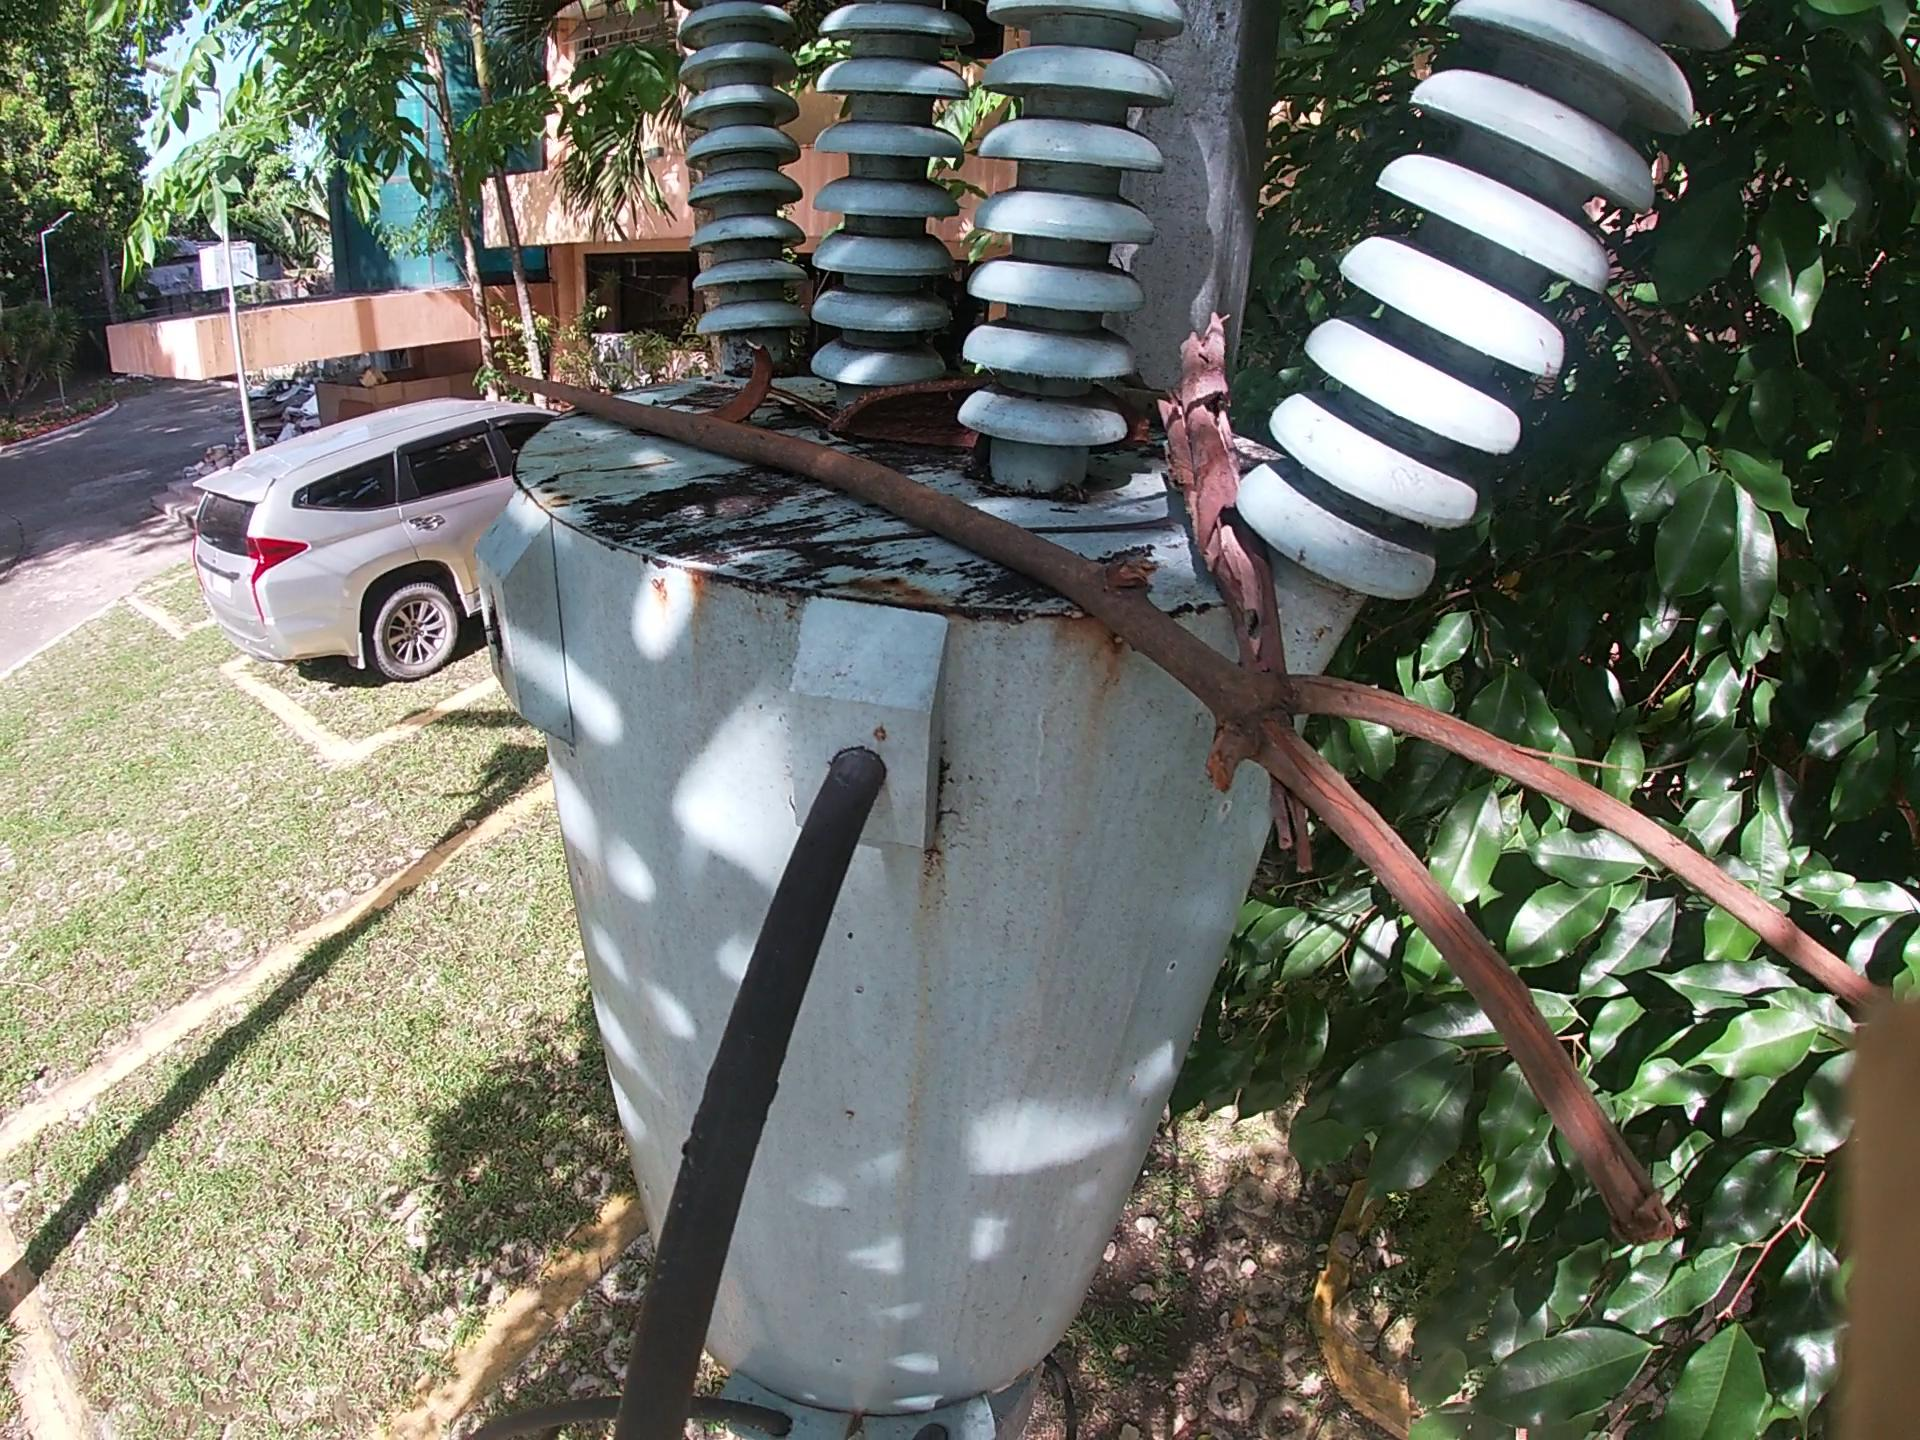mahogany fruit: (835, 380, 980, 463), (720, 345, 791, 416), (1105, 411, 1160, 470)
tree branch: (488, 362, 1891, 1277), (1150, 315, 1320, 906), (721, 523, 1181, 572), (773, 386, 831, 422), (1098, 383, 1169, 402)
